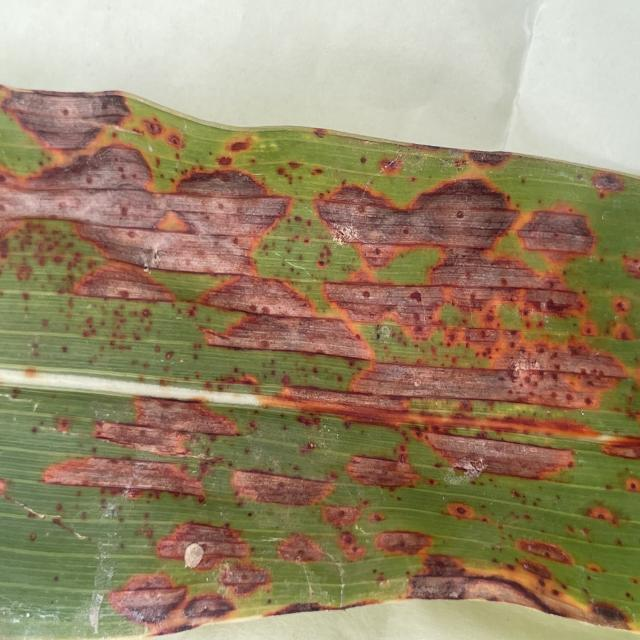millet_rust: (0, 78, 632, 640)
